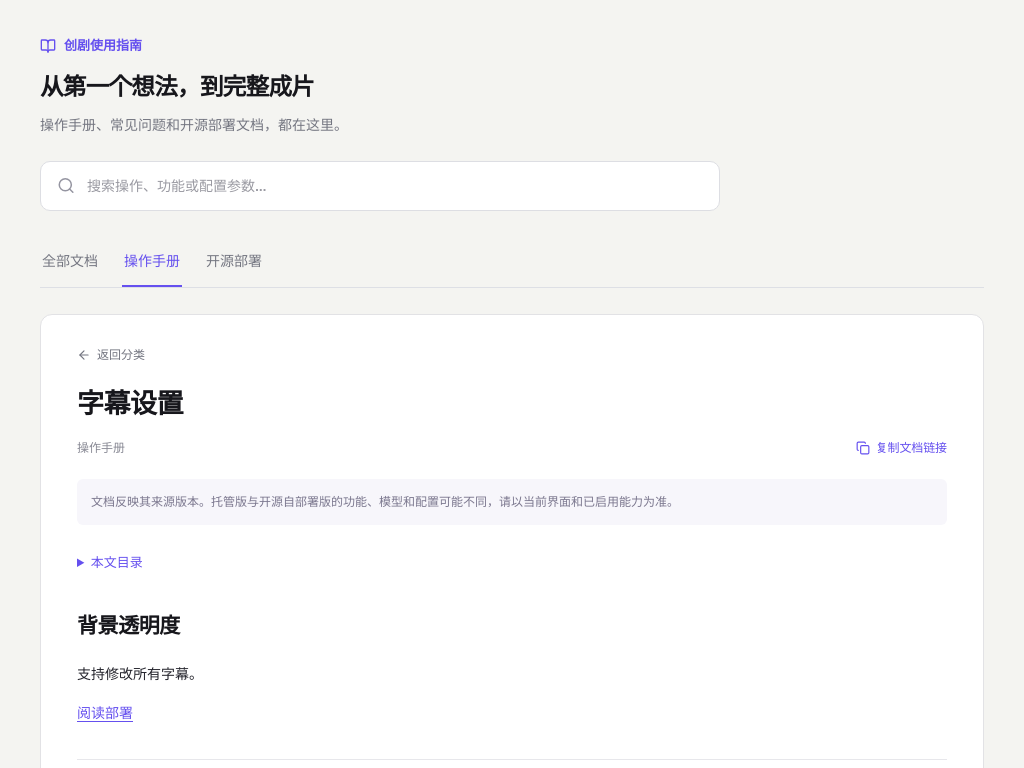
Chinese help center › supports direct article URLs, internal links, contents and previous/next reading
Expected: the heading "字幕设置" is shown, top-left (77, 387), bottom-right (183, 421)
Click the link "阅读部署" at (105, 713), box top-left (77, 704), bottom-right (133, 722)
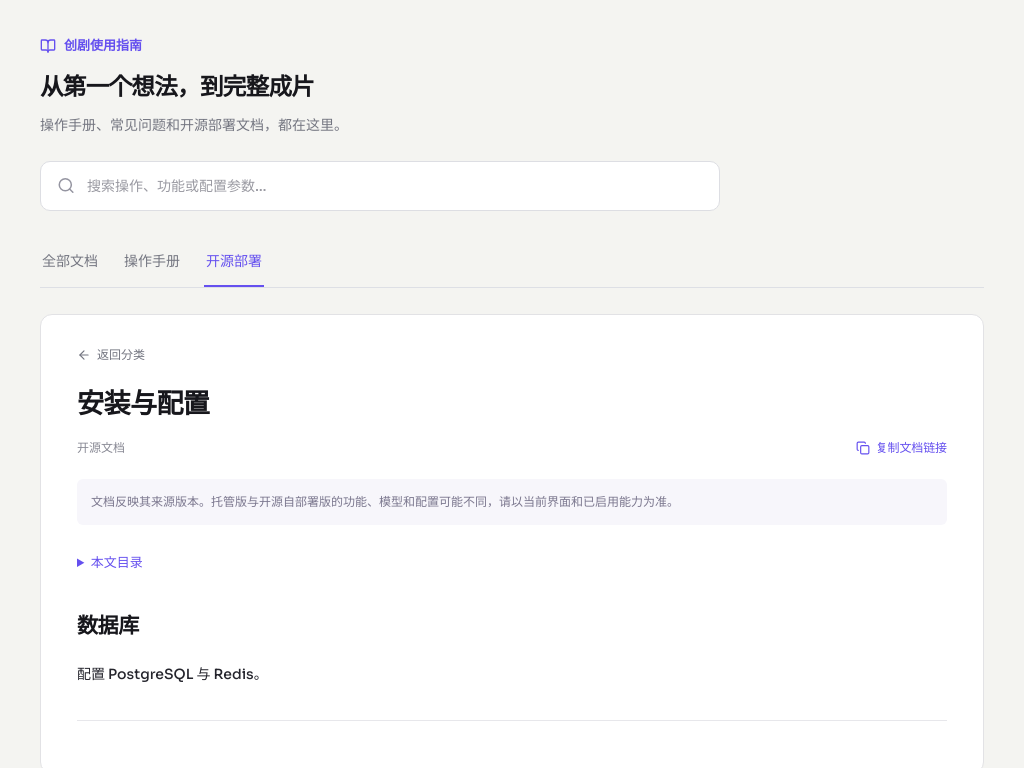
Expected: the heading "安装与配置" is shown, top-left (77, 387), bottom-right (209, 421)
